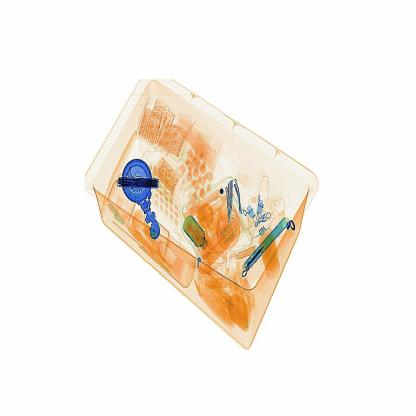scissors: (111, 163, 167, 198)
